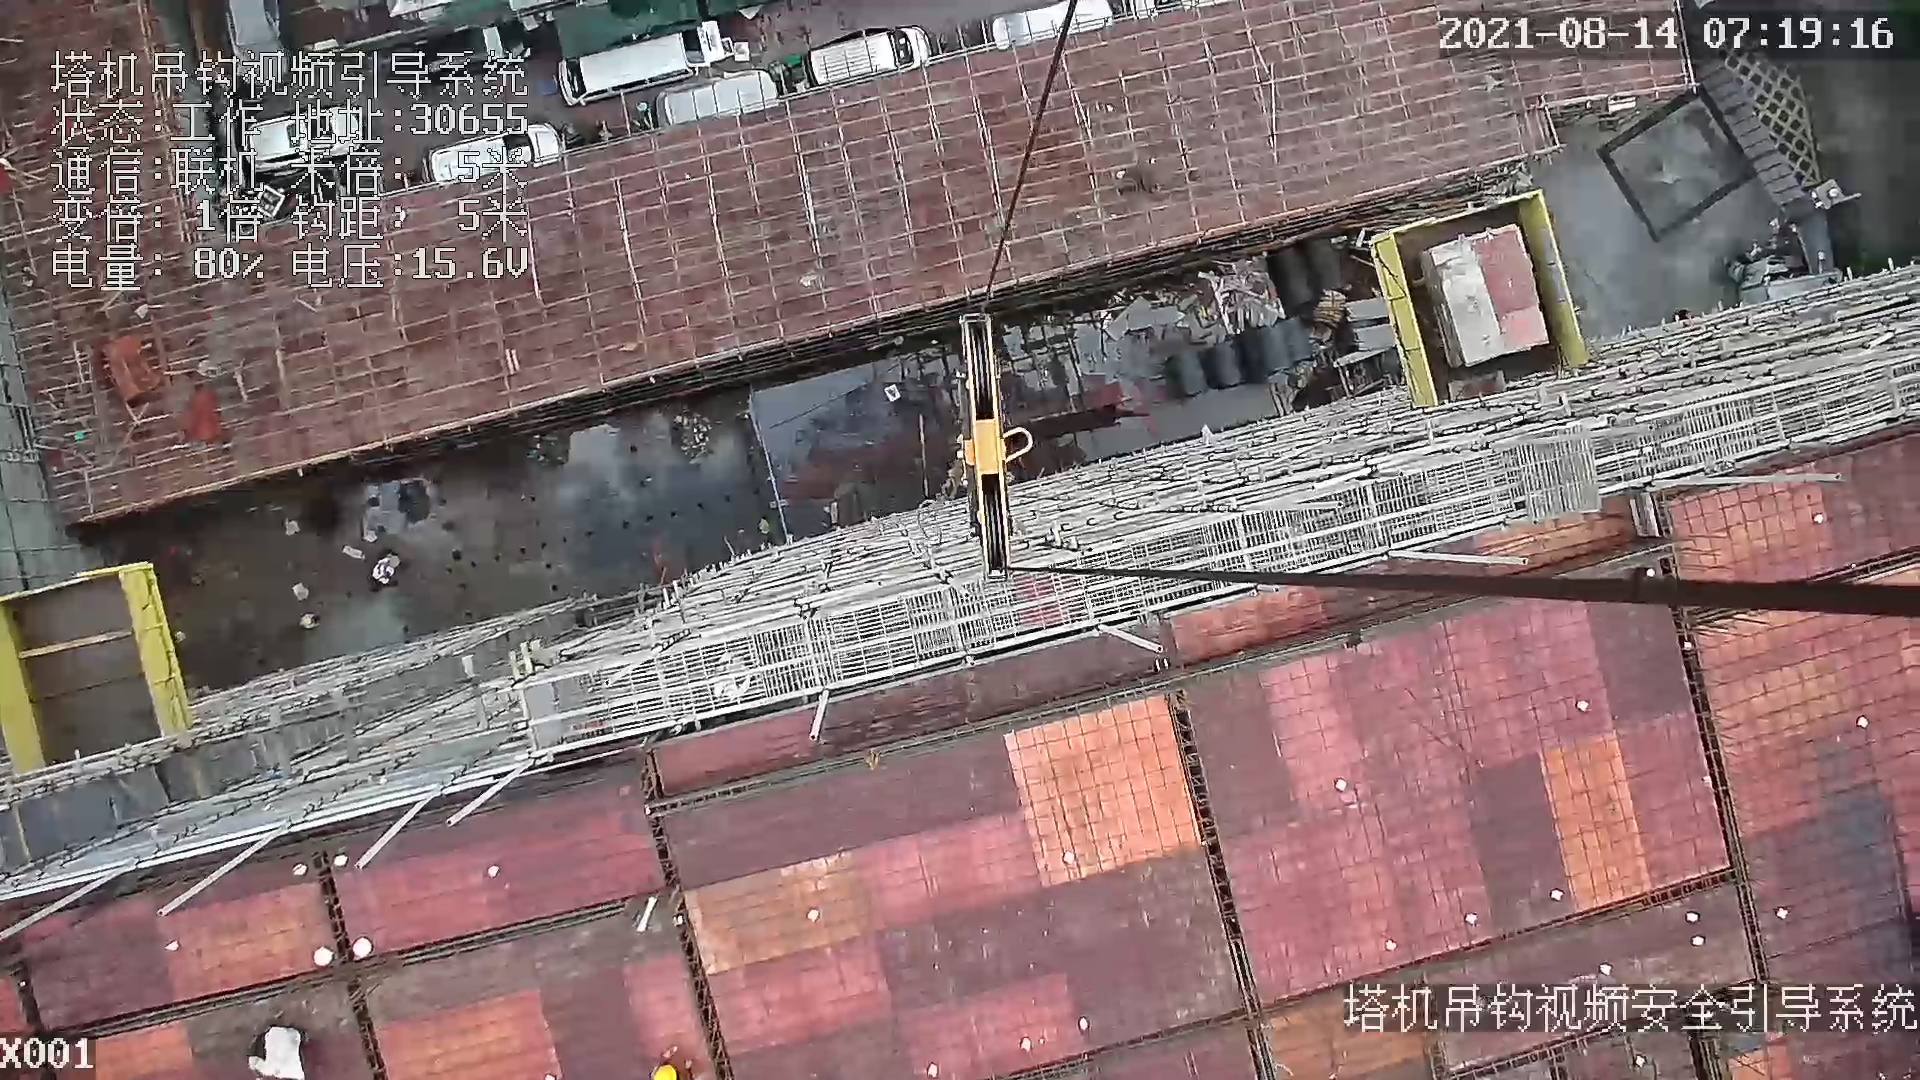hook: (945, 305, 1055, 577)
person: (249, 1027, 314, 1080)
